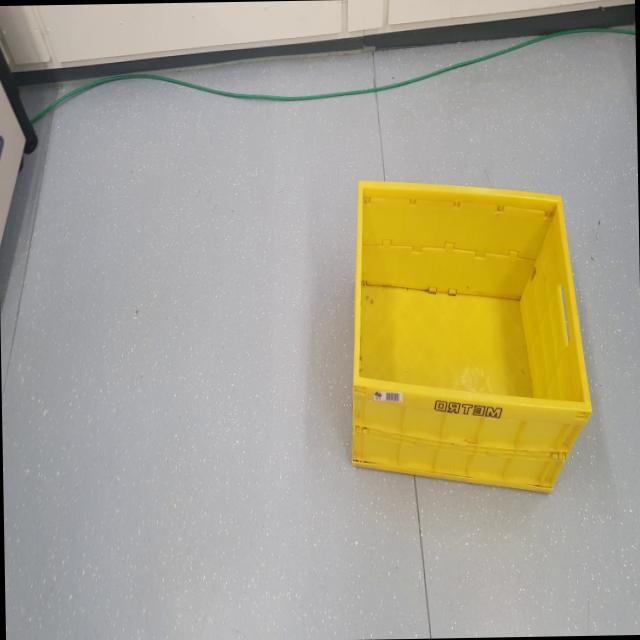box: (337, 160, 598, 531)
